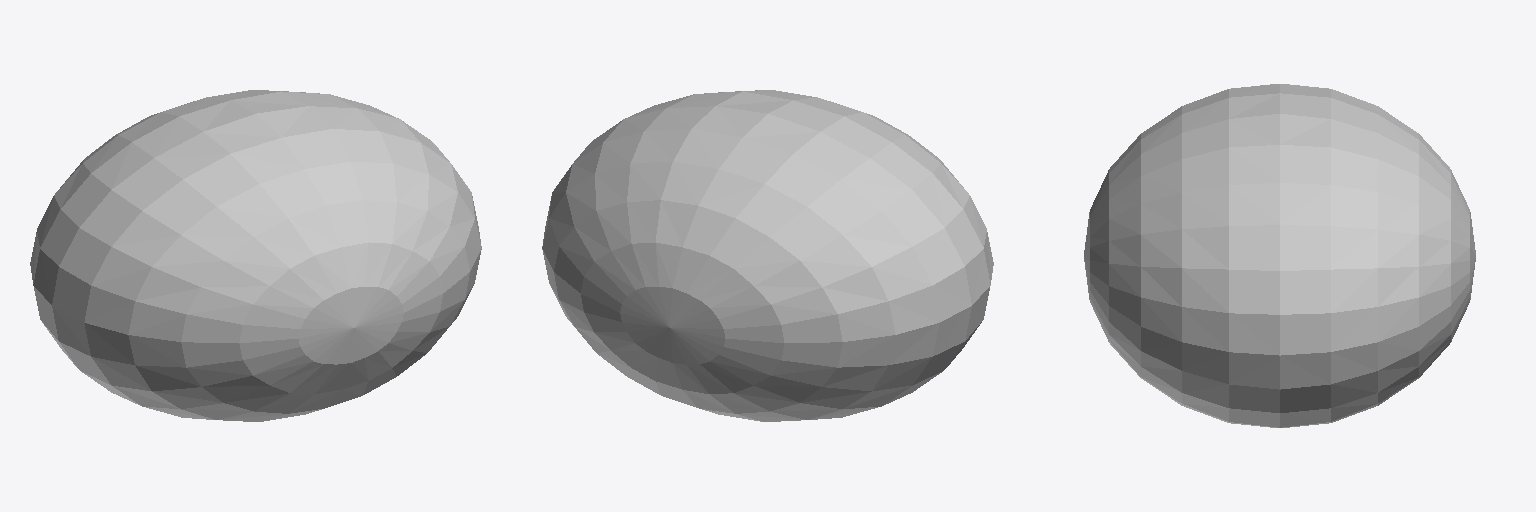
The model's file is ellipsoi.obj.
3 views of the same model, side by side, from view 1: azimuth 30°, elevation 25°; view 2: azimuth 150°, elevation 25°; view 3: azimuth 270°, elevation 25° (orthographic).
Parts seen in each view (by area): view 1: ellipsoi; view 2: ellipsoi; view 3: ellipsoi.
Boxes of the visible parts, x1=… form: ellipsoi: x1=30, y1=90, x2=481, y2=421; ellipsoi: x1=542, y1=90, x2=993, y2=421; ellipsoi: x1=1084, y1=84, x2=1475, y2=427.
Size of the model in its own units: 2.4 by 1.6 by 2.